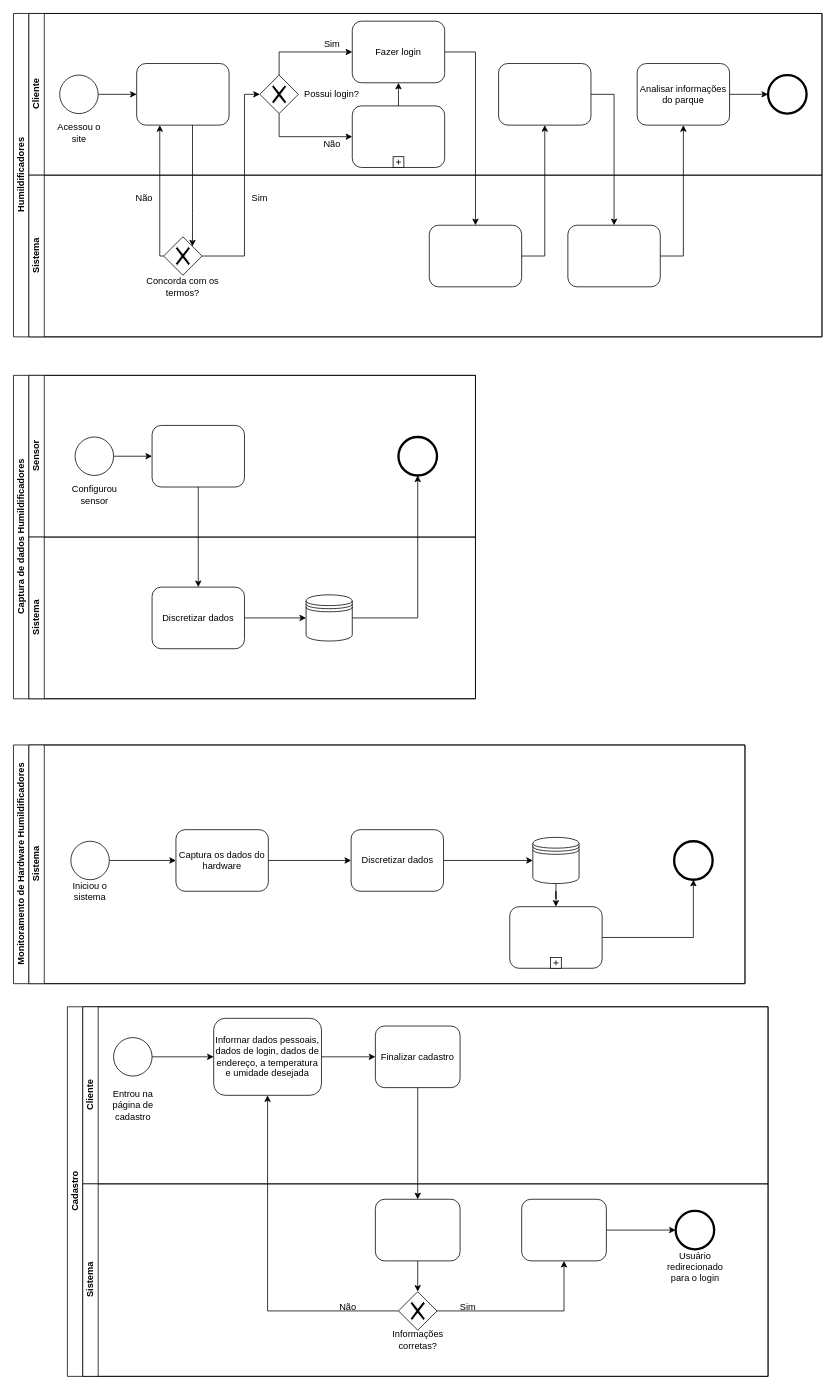
The diagram is 835 pixels wide and 1390 high, and some of its shapes have lost their labels. The centre of each missing label's shape, as x and y in pixels:
"Cadastrar usuário" goes at point 563,1230.
"Enviou dados" goes at point 555,937.
"Fazer cadastro" goes at point 398,136.
"Iniciou a coleta de dados" goes at point 197,456.
"Leu as informações do funcionamento do projeto" goes at point 182,94.
"Listar parques" goes at point 475,255.
"Mostrar dados" goes at point 613,255.
"Selecionar parque" goes at point 544,94.
"Validar informações" goes at point 417,1230.
